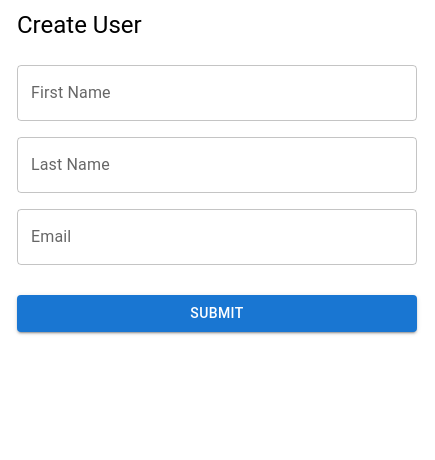
Test case: CreateUser Component › should validate and show error when fields are invalid
Click the button "Submit": (217, 314) [17,295,417,332]
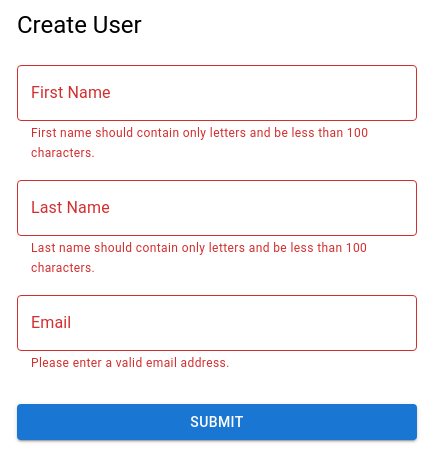
Check: the text "First name should contain only letters" is shown, box [31,126,368,160]
Check: the text "Last name should contain only letters" is shown, box [31,241,367,275]
Check: the text "Please enter a valid email address." is shown, box [31,356,230,370]
